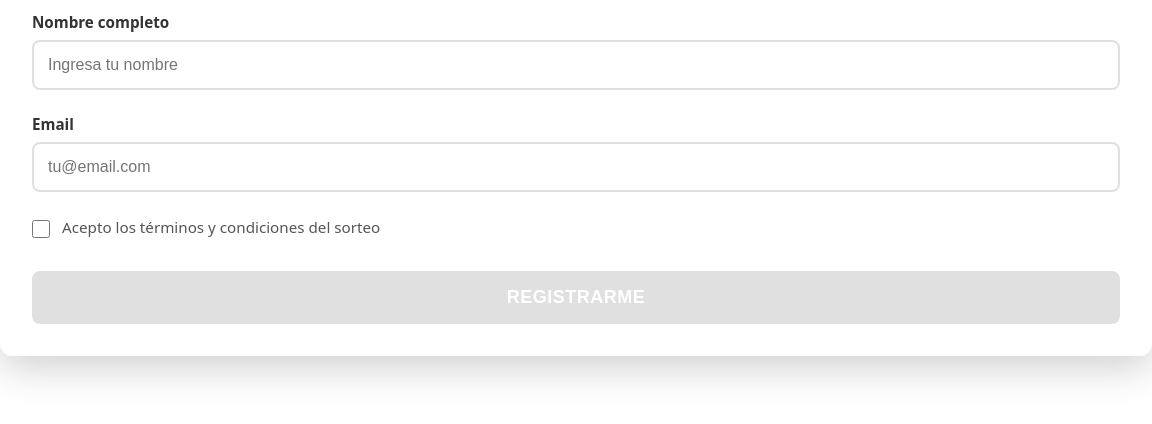
RegistrationForm › muestra mensaje de error cuando el nombre es muy corto
Type "J" into the field with id "name" at (576, 65), box [32,40,1120,90]
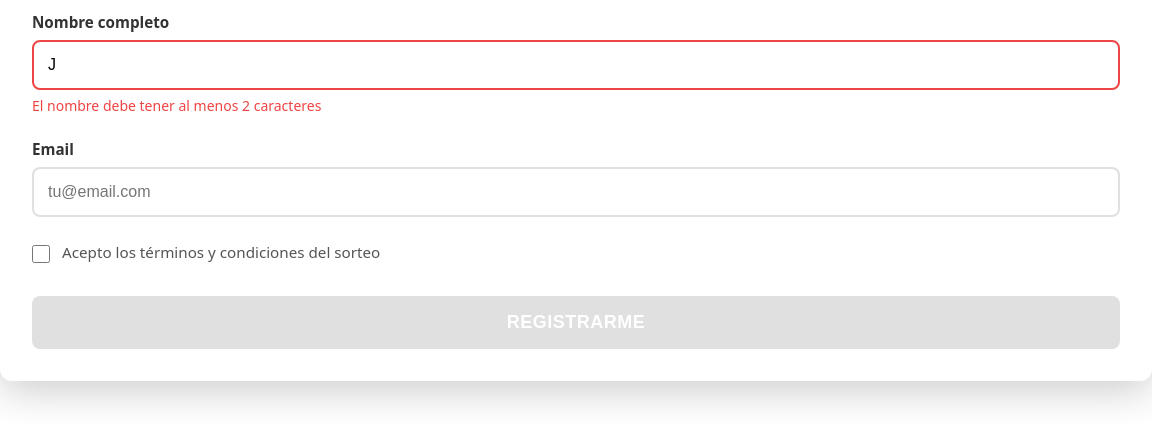
Check: the text "El nombre debe tener al menos 2 caracteres" is shown, box [32,96,321,115]
